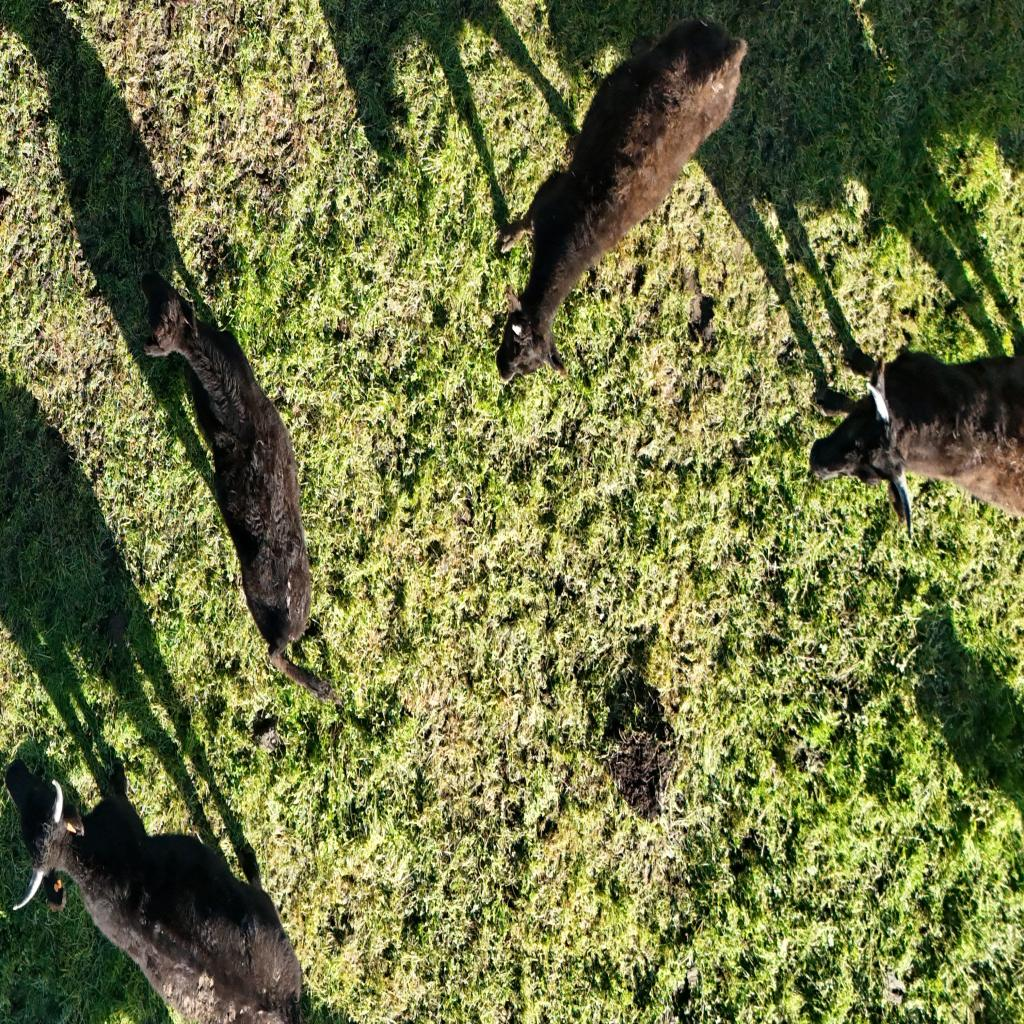cow: (135, 256, 341, 696), (2, 748, 303, 1024), (508, 12, 718, 385), (806, 331, 1024, 539)
